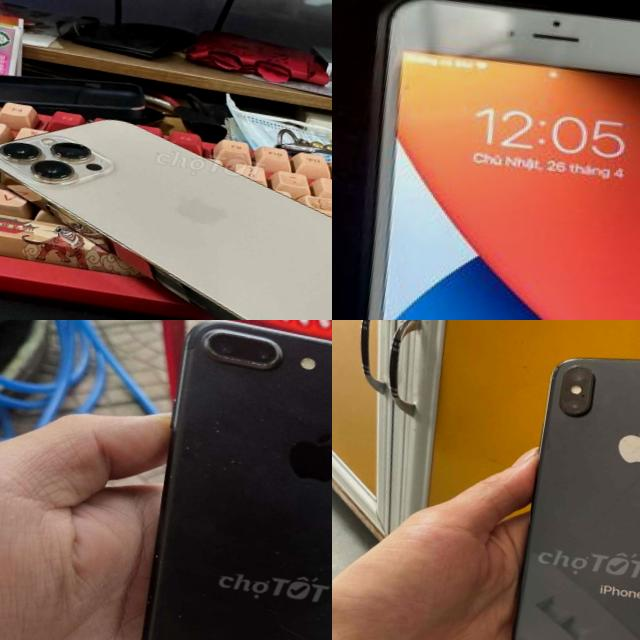gen_12_13: (0, 92, 332, 320)
gen_6: (332, 0, 640, 320)
gen_7_8: (111, 320, 332, 640)
gen_x_xs: (513, 358, 640, 640)
scratch: (197, 321, 287, 373), (193, 414, 255, 478), (265, 614, 332, 640), (308, 332, 332, 368), (252, 398, 274, 426), (554, 350, 582, 370), (163, 462, 177, 482), (312, 562, 332, 575), (271, 541, 289, 555), (170, 394, 182, 411), (170, 611, 184, 623), (301, 481, 316, 492), (179, 439, 192, 448), (151, 550, 161, 560), (290, 437, 298, 444)
